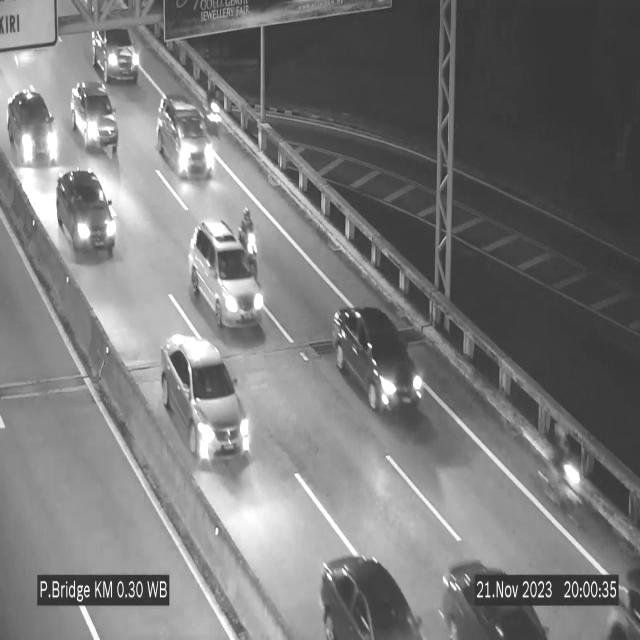Car: (312, 530, 439, 640), (434, 530, 552, 640), (162, 335, 250, 465), (332, 306, 426, 412), (189, 221, 262, 330), (55, 165, 119, 262), (154, 90, 216, 182), (7, 88, 56, 169), (71, 81, 118, 159), (90, 29, 142, 86)
Motorcycle: (542, 424, 582, 518), (239, 206, 258, 278), (203, 82, 224, 132)
